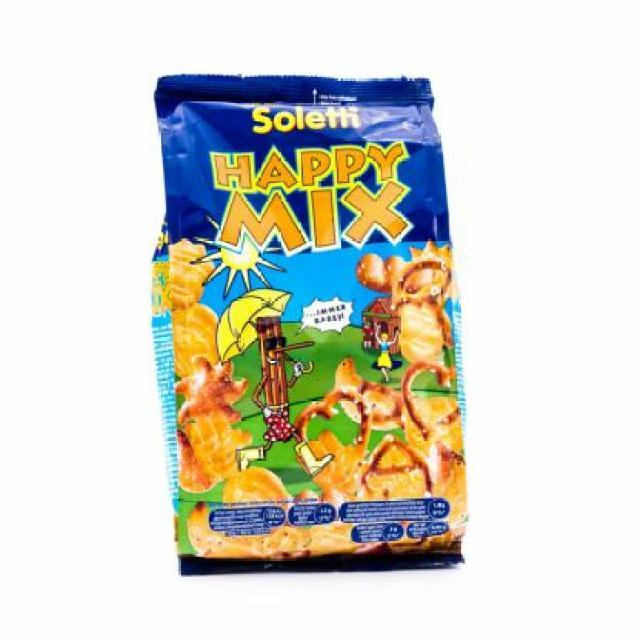Salatini: (144, 72, 482, 578)
